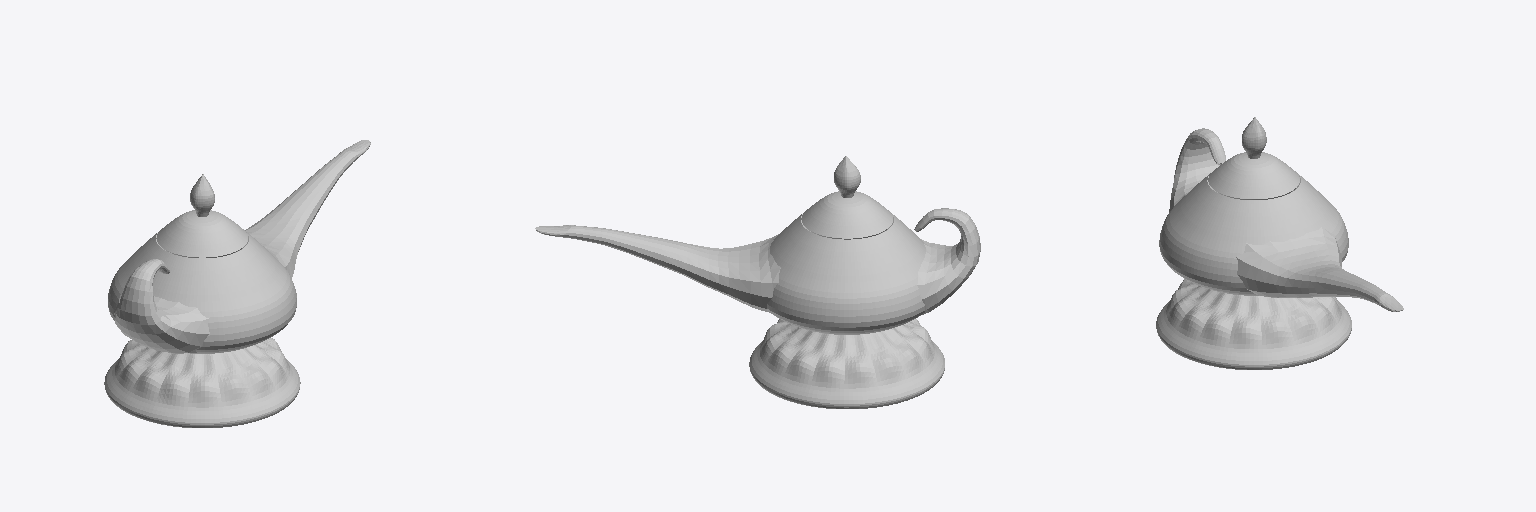
Rendered from lantern_genie.obj.
3 views of the same model, side by side, from view 1: azimuth 30°, elevation 25°; view 2: azimuth 150°, elevation 25°; view 3: azimuth 270°, elevation 25° (orthographic).
Visible parts, largest first — view 1: lantern_genie; view 2: lantern_genie; view 3: lantern_genie.
Boxes of the visible parts, <box> form: lantern_genie: <box>104,140,370,427</box>; lantern_genie: <box>535,156,980,408</box>; lantern_genie: <box>1156,117,1403,369</box>.
Bounding box in the file's own units: 3.51 × 2.08 × 2.18.